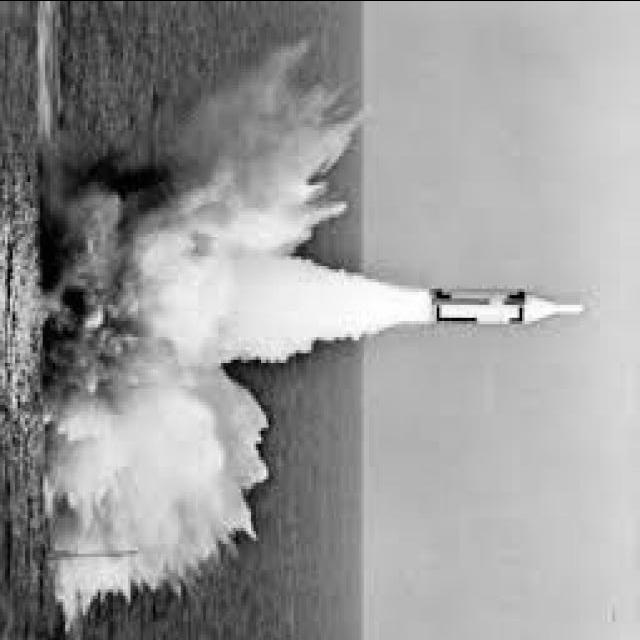Missile: (430, 285, 586, 333), (434, 284, 568, 327)
